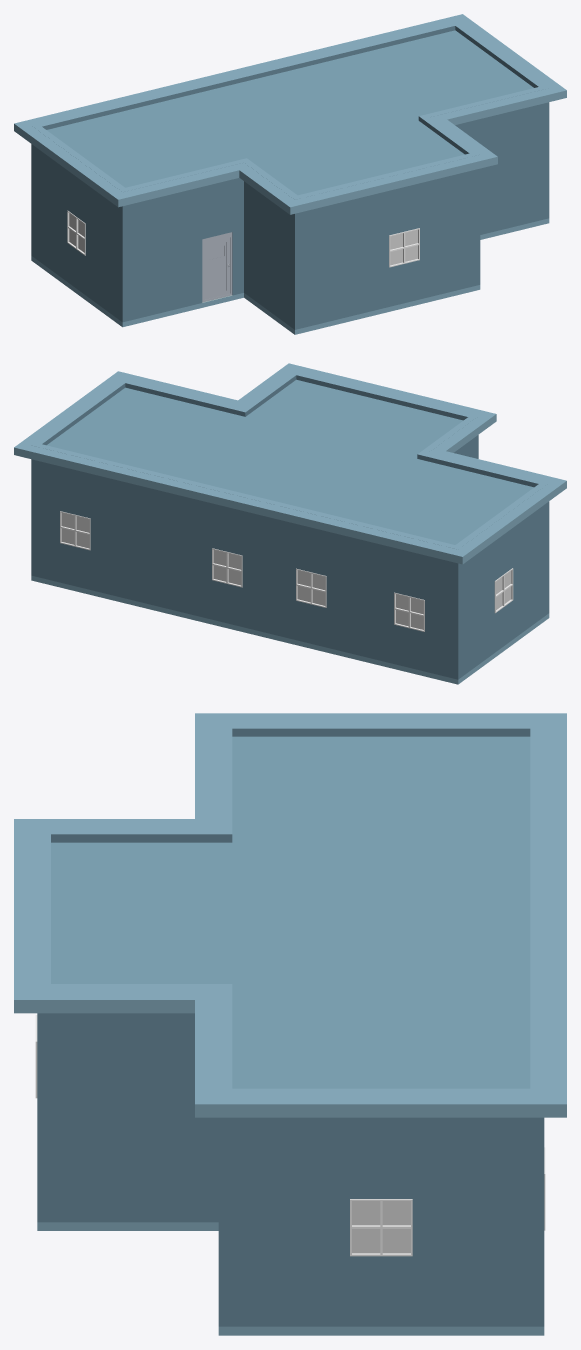
The model's file is House_7.fbx.
3 renders of one model, top to bottom at view 1: azimuth 30°, elevation 25°; view 2: azimuth 150°, elevation 25°; view 3: azimuth 270°, elevation 25°, orthographic. The views are drawn at different scales.
Parts seen in each view (by area): view 1: House_7_Body, House_7_Door.002, House_7_Window.002, House_7_Window; view 2: House_7_Body, House_7_Window.006, House_7_Window.004, House_7_Window.005, House_7_Window.003, House_7_Window; view 3: House_7_Body, House_7_Window.001.
Part boxes in pixels (left/top/right/bottom): House_7_Body: left=14, top=14, right=566, bottom=334; House_7_Door.002: left=202, top=232, right=232, bottom=302; House_7_Window.002: left=390, top=229, right=418, bottom=265; House_7_Window: left=68, top=213, right=84, bottom=252; House_7_Body: left=14, top=363, right=566, bottom=684; House_7_Window.006: left=60, top=513, right=89, bottom=548; House_7_Window.004: left=296, top=570, right=325, bottom=605; House_7_Window.005: left=212, top=550, right=241, bottom=585; House_7_Window.003: left=395, top=594, right=423, bottom=629; House_7_Window: left=496, top=571, right=512, bottom=609; House_7_Body: left=14, top=713, right=566, bottom=1335; House_7_Window.001: left=352, top=1201, right=410, bottom=1254.
Bounding box in the file's own units: 1478 × 425 × 884.
